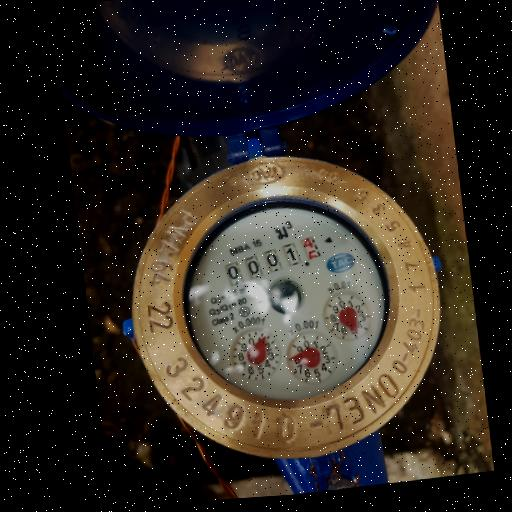0: (243, 253, 264, 280), (223, 261, 244, 287), (262, 247, 283, 273)
1: (280, 241, 302, 267)
4: (298, 233, 322, 264)
border_water_meter_number: (215, 227, 332, 297)
